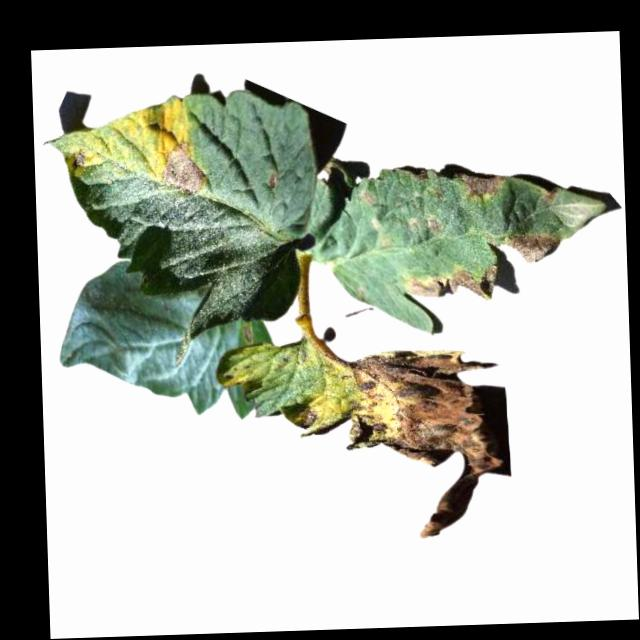Early_blight: (349, 347, 505, 542), (393, 263, 499, 305), (162, 134, 207, 196), (503, 229, 560, 266), (457, 172, 505, 202), (289, 400, 317, 430), (68, 145, 89, 169), (540, 189, 560, 206), (426, 216, 445, 233), (241, 323, 252, 339)
